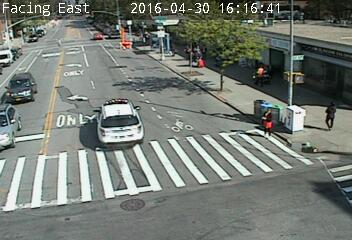neg: (97, 105, 121, 137), (43, 107, 58, 127), (154, 39, 166, 56), (77, 55, 89, 71), (21, 83, 32, 99), (184, 56, 194, 69), (24, 29, 34, 42), (117, 28, 126, 41), (194, 91, 203, 103), (10, 16, 19, 28), (102, 25, 110, 36), (47, 7, 54, 17), (66, 10, 72, 17)
pos: (255, 105, 278, 136), (319, 101, 340, 129), (252, 63, 270, 88)
